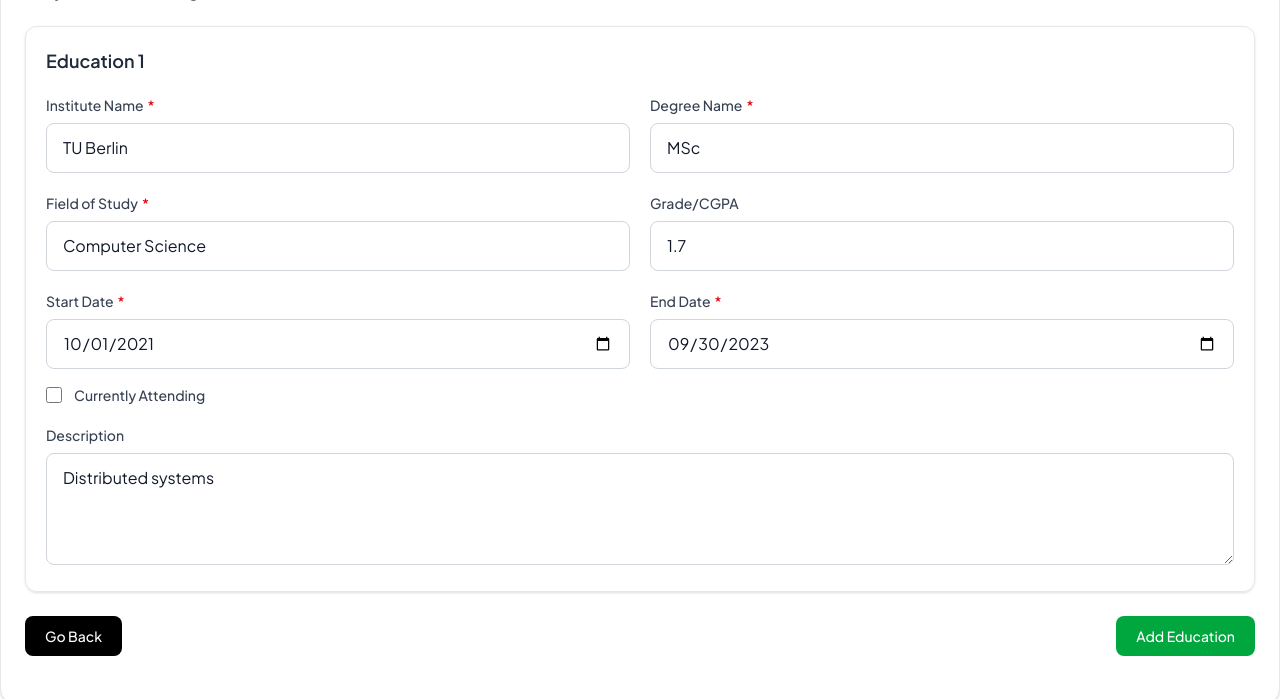
Test: AcademicDetails › adds and deletes education cards
The image size is (1280, 699).
(page scrolled)
Check: the heading "Education 1" is shown, box x1=46 y1=47 x2=145 y2=75
Click the button "Add Education" at [1186, 636], box x1=1116 y1=616 x2=1255 y2=656
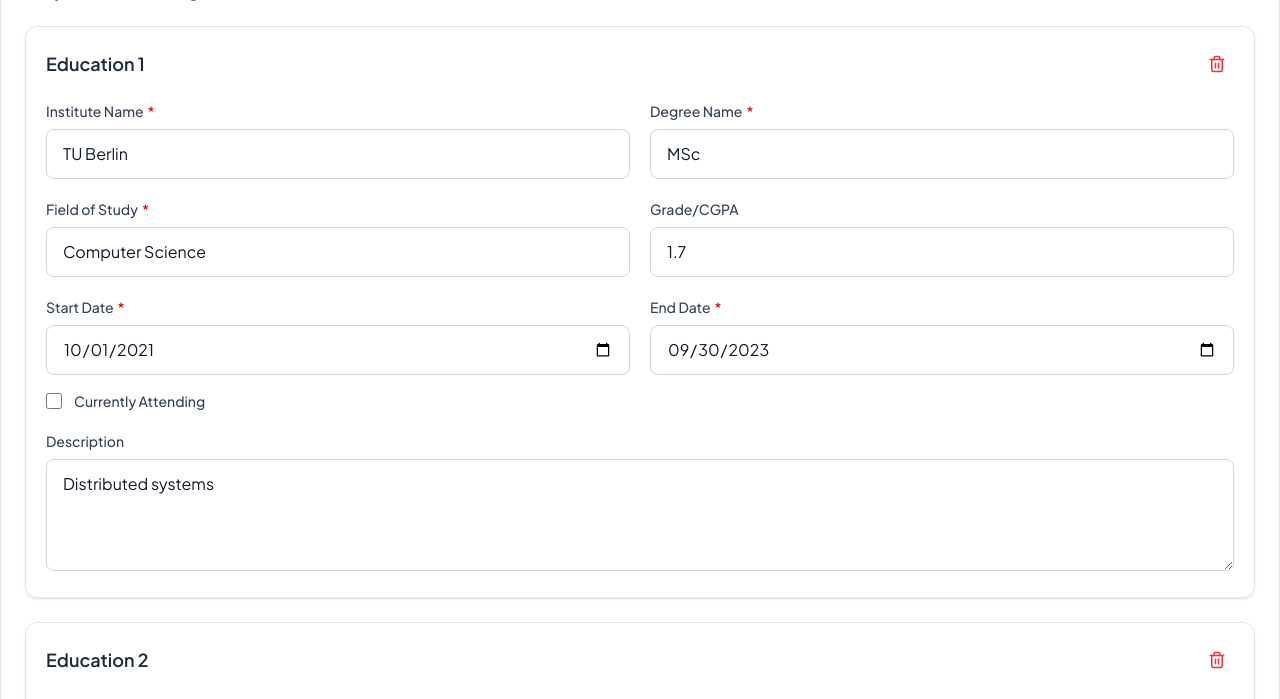
Check: the heading "Education 2" is shown, box x1=46 y1=646 x2=148 y2=674
Click the button named "Delete education 2" at [1217, 660], box x1=1200 y1=643 x2=1234 y2=677
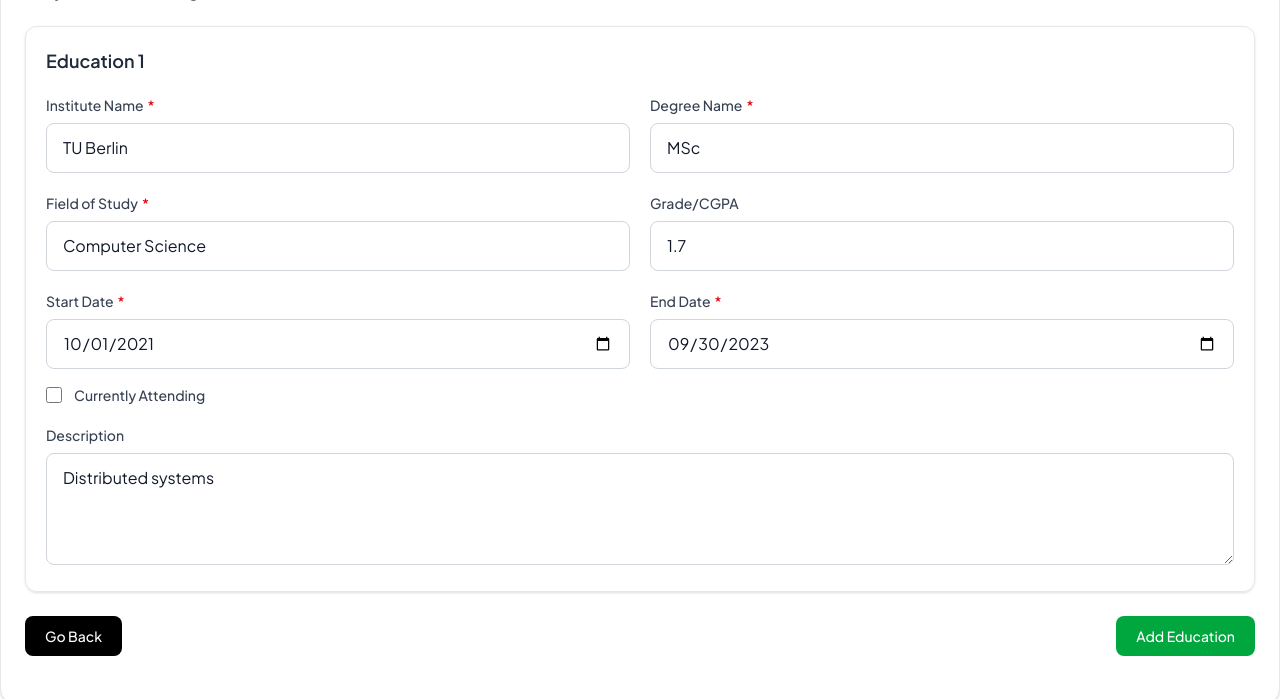
Check: the heading "Education 2" is gone
